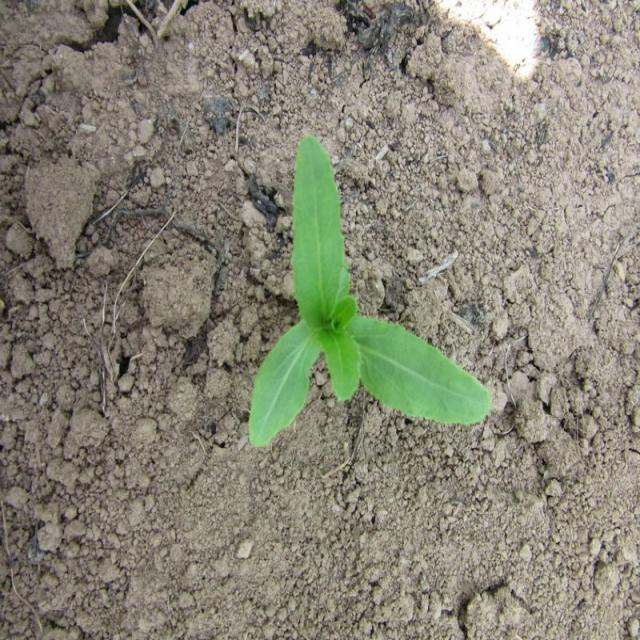field_thistle: (225, 128, 492, 462)
